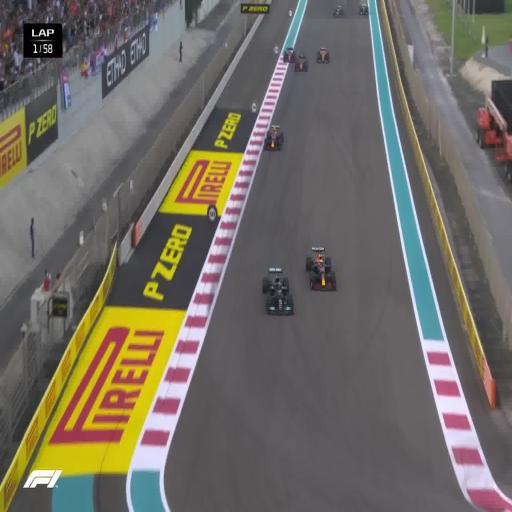f1_car: (262, 267, 294, 314), (306, 247, 336, 290), (263, 125, 283, 150), (295, 54, 307, 71), (317, 47, 330, 62), (283, 47, 296, 62), (333, 5, 344, 18), (359, 4, 368, 14)
